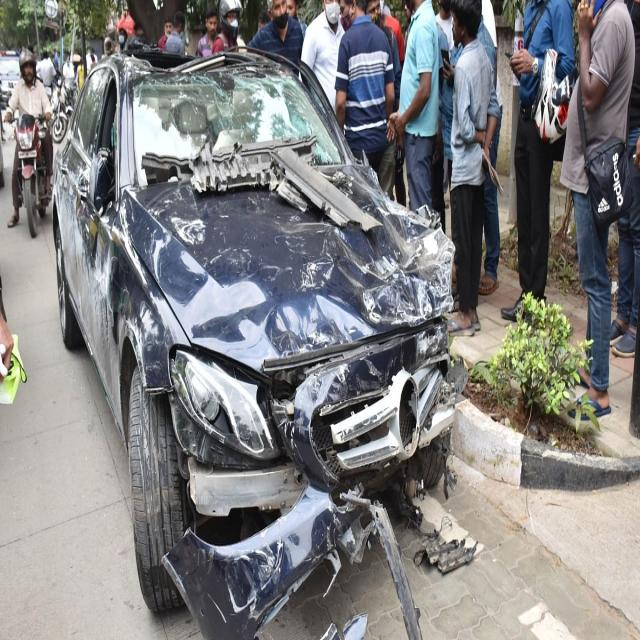accident: (52, 53, 456, 638)
motorcycle: (5, 51, 52, 236)
